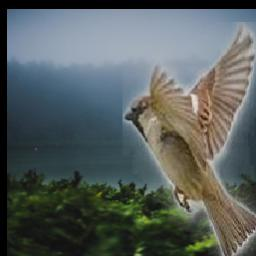Sparrow: (123, 22, 256, 256)
